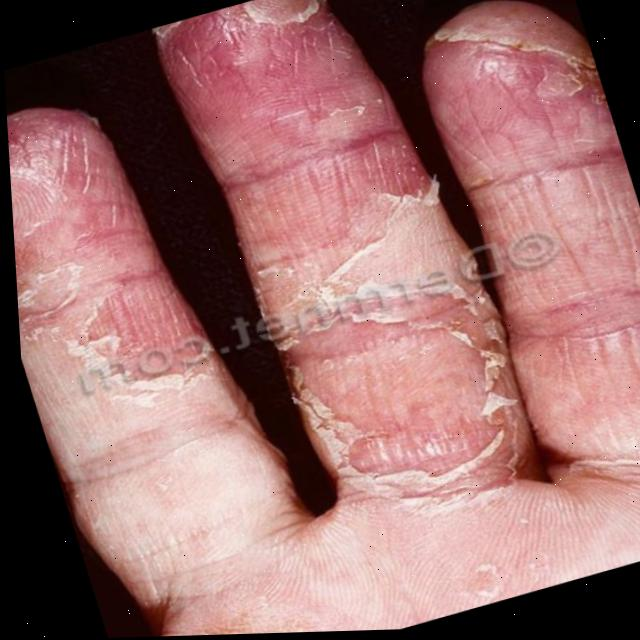Eczema: (195, 0, 527, 486), (8, 127, 149, 387), (445, 0, 615, 163)
